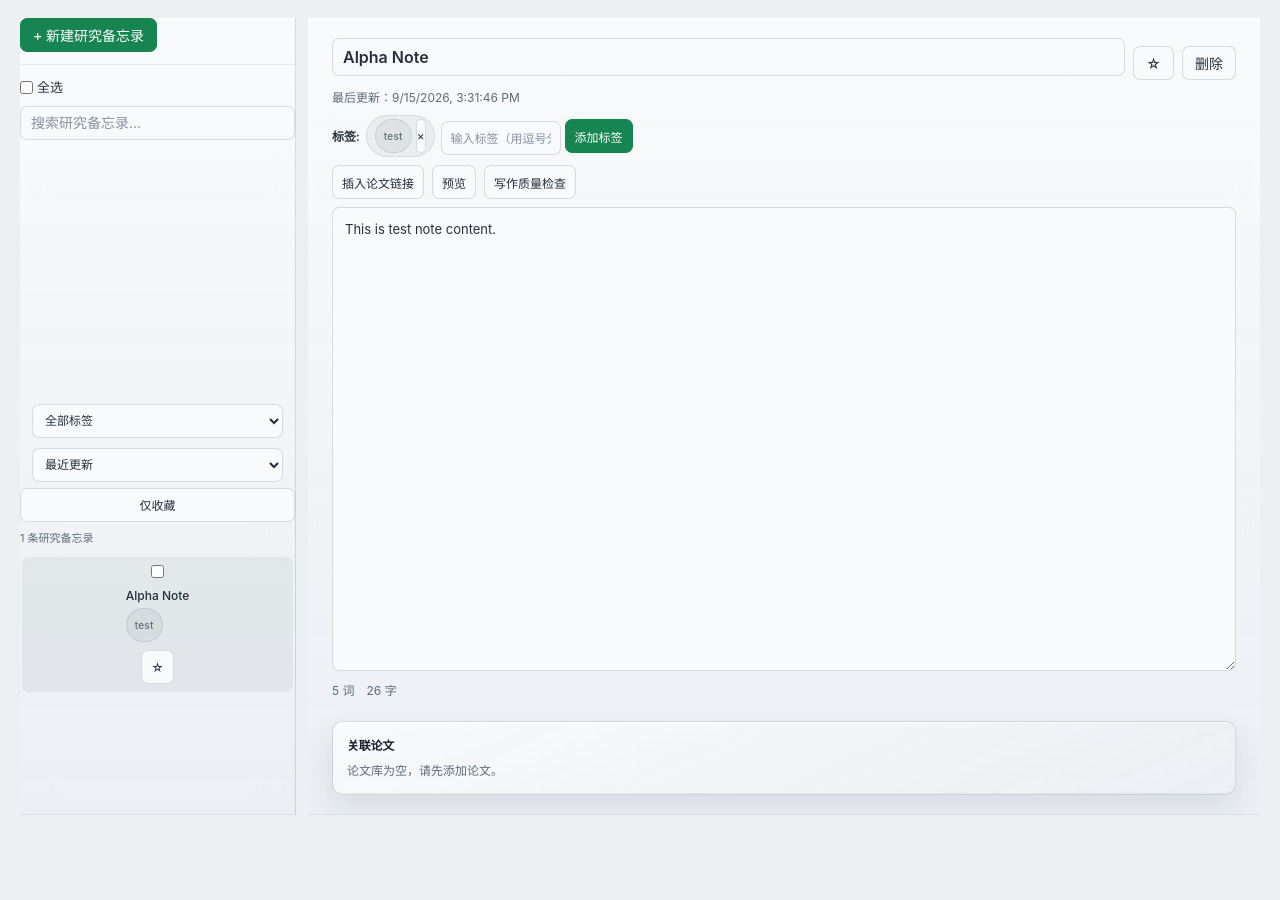
it: NotesPage › should show no-matching-notes message when filter returns nothing
The width and height of the screenshot is (1280, 900).
In the field with placeholder "搜索研究备忘录...": (158, 123) [20,106,295,140], type "ZZZ"
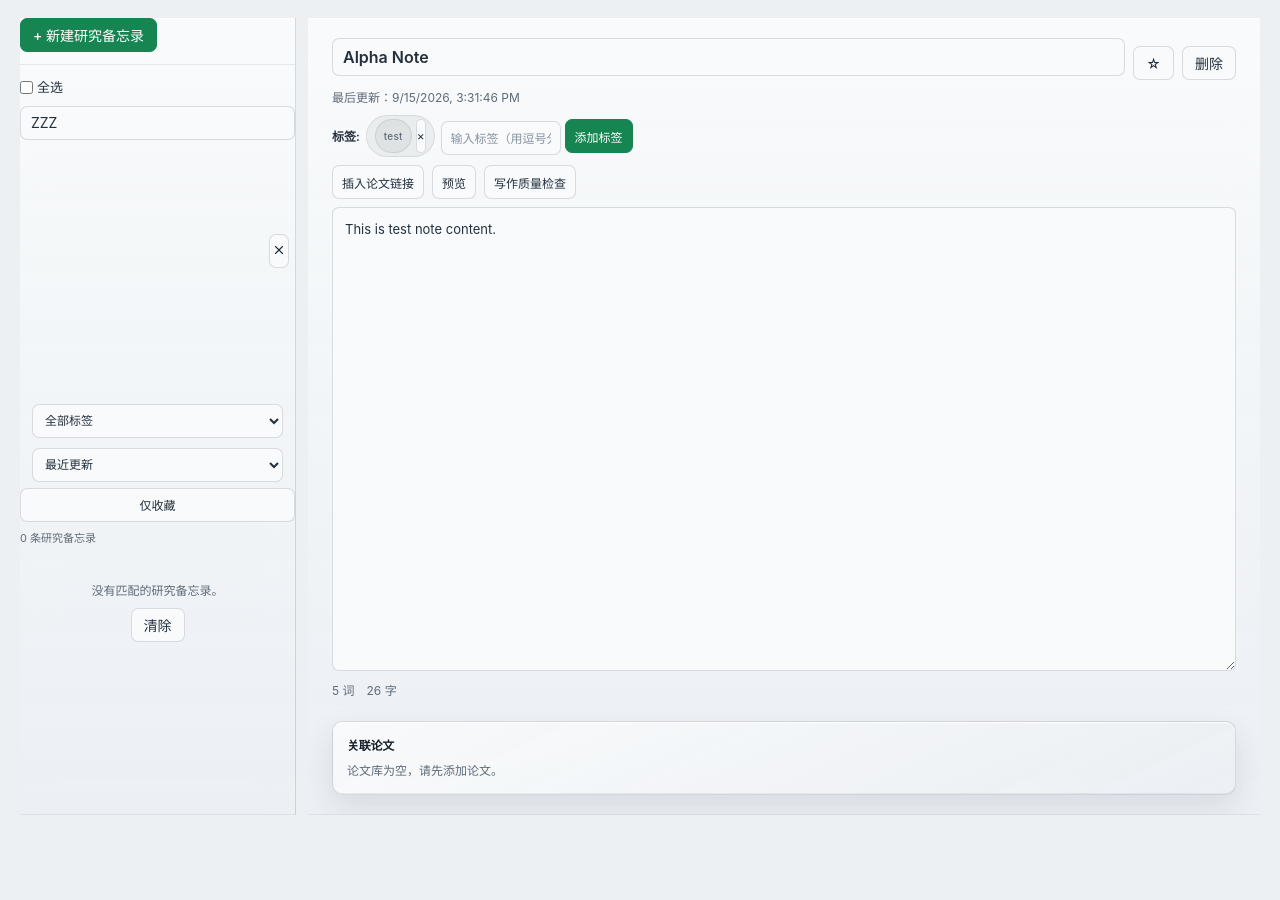
Expected: the text "没有匹配的研究备忘录。" is shown, [92,583,224,598]
